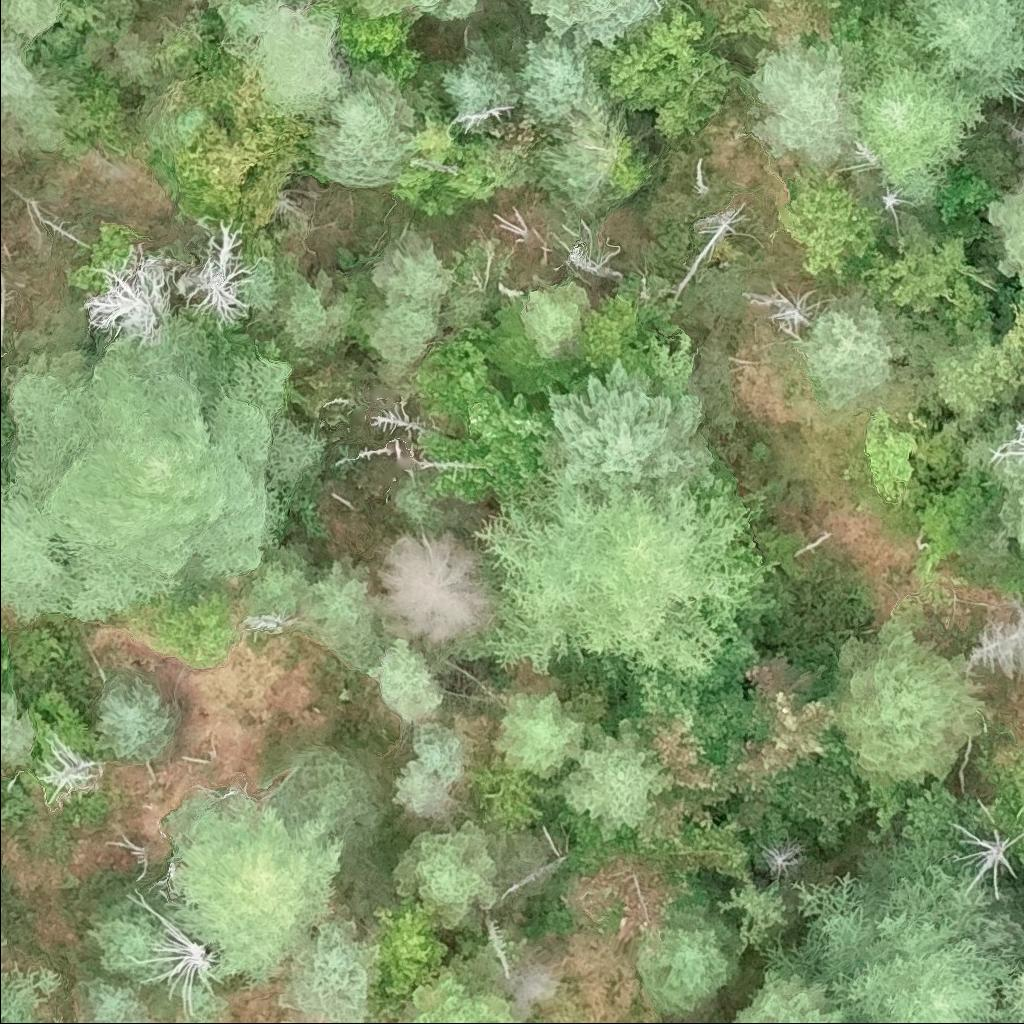crown: (0, 318, 325, 622), (472, 462, 778, 678), (758, 845, 1016, 1023), (170, 799, 344, 990), (831, 624, 989, 797), (547, 359, 717, 502), (857, 19, 982, 200), (632, 632, 767, 773), (179, 99, 322, 232), (606, 3, 738, 138), (729, 657, 849, 799), (211, 0, 349, 116), (416, 390, 557, 503), (752, 32, 861, 166), (125, 889, 225, 1018), (563, 717, 666, 842), (311, 68, 419, 187), (634, 716, 733, 843), (379, 532, 494, 641), (799, 290, 907, 405), (908, 0, 1023, 99), (394, 821, 497, 929), (639, 906, 738, 1016), (365, 898, 452, 1022), (82, 248, 191, 345), (0, 32, 86, 149), (172, 226, 266, 330), (756, 756, 857, 850), (307, 0, 416, 86), (292, 918, 381, 1023), (780, 189, 879, 279), (285, 746, 385, 833), (493, 693, 587, 780), (311, 558, 384, 668), (372, 227, 456, 316), (93, 674, 176, 763), (393, 720, 464, 823), (87, 898, 173, 982), (525, 0, 655, 55), (939, 821, 1023, 903), (728, 966, 847, 1023), (964, 437, 1023, 547), (242, 544, 327, 618), (397, 973, 519, 1023), (279, 271, 353, 353), (376, 639, 444, 725), (522, 281, 593, 362), (366, 296, 442, 370), (574, 293, 639, 376), (967, 593, 1023, 680), (472, 759, 543, 827), (743, 283, 815, 342), (0, 967, 64, 1023), (771, 0, 835, 53), (989, 185, 1023, 282), (992, 750, 1023, 836), (88, 984, 150, 1023), (0, 0, 60, 38), (998, 963, 1023, 1020), (418, 0, 482, 21), (0, 635, 20, 696), (1005, 302, 1023, 369), (995, 419, 1023, 460), (361, 0, 421, 19), (1007, 72, 1023, 104), (1011, 840, 1023, 863), (998, 1016, 1023, 1023), (662, 0, 675, 5), (53, 1019, 65, 1023)
